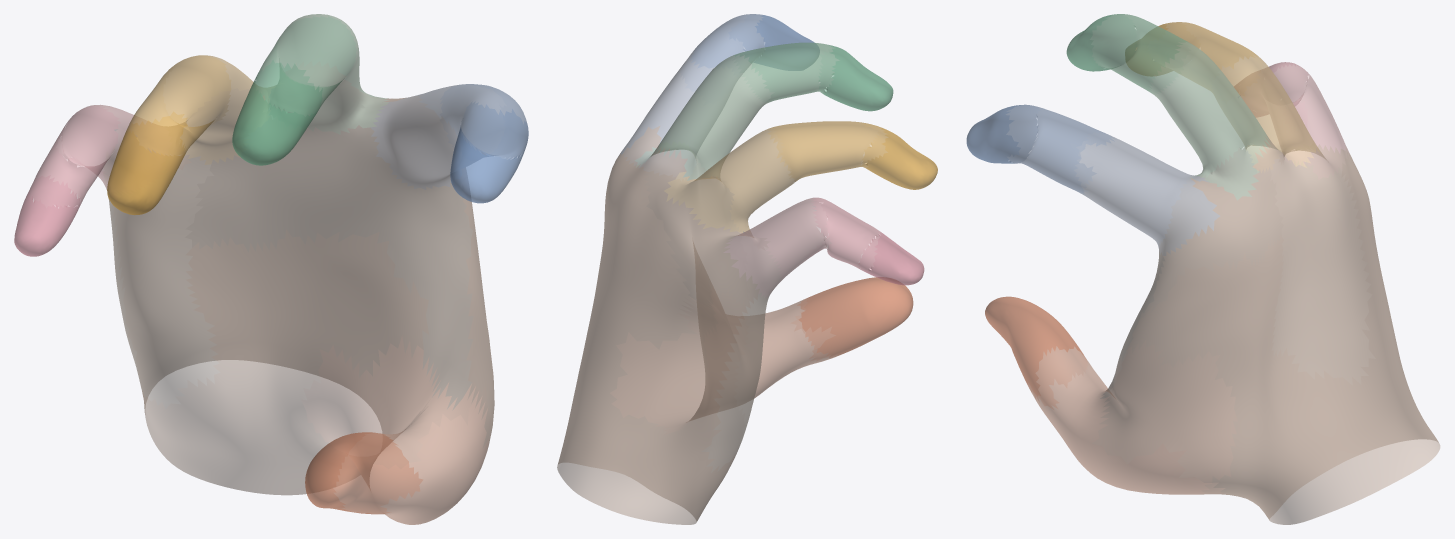
Rendered from geominit_mano.glb.
3 views of the same model, side by side, from view 1: azimuth 30°, elevation 25°; view 2: azimuth 150°, elevation 25°; view 3: azimuth 270°, elevation 25° (orthographic). The views are drawn at different scales.
Parts seen in each view (by area): view 1: init; view 2: init; view 3: init.
Part boxes in pixels (bbox=[...]): init: bbox=[14, 14, 528, 524]; init: bbox=[557, 14, 937, 524]; init: bbox=[966, 14, 1440, 524].
Bounding box in the file's own units: 0.1185 × 0.143 × 0.1366.
